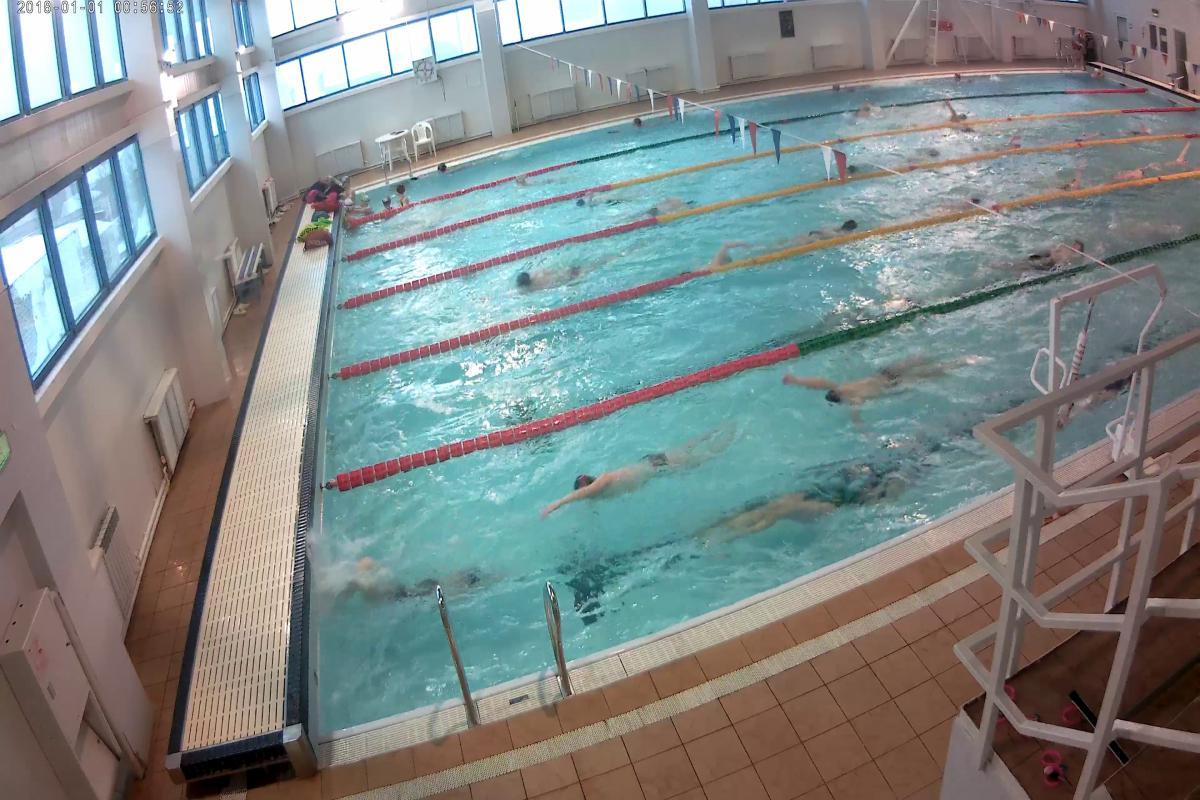swimmer: (742, 437, 908, 530), (546, 427, 713, 516), (796, 350, 936, 414), (360, 558, 514, 607), (1002, 233, 1090, 271), (508, 259, 588, 295), (684, 235, 749, 274), (803, 210, 864, 239), (578, 189, 625, 213), (642, 196, 698, 216), (1116, 158, 1156, 176), (944, 103, 973, 122)
